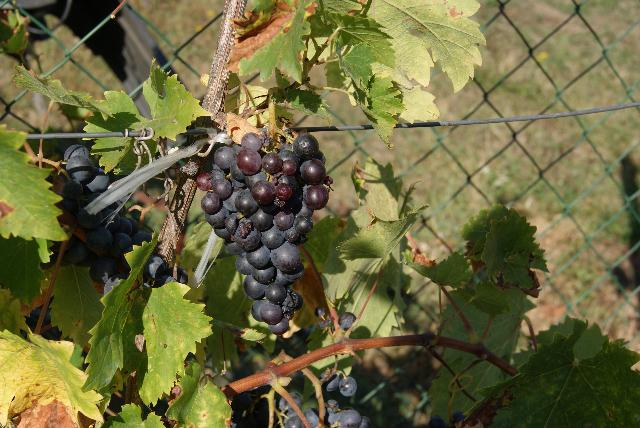grapes: (196, 132, 329, 334), (51, 145, 152, 294), (140, 255, 189, 288), (325, 400, 371, 428), (278, 398, 305, 428), (304, 409, 319, 428)
